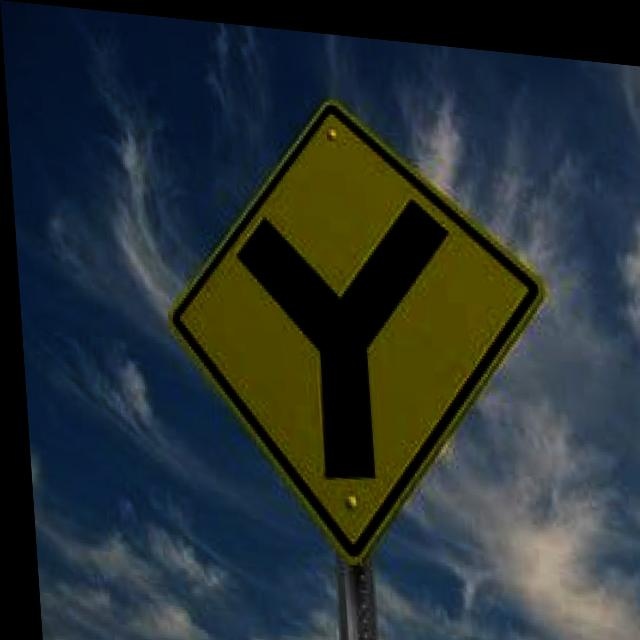Y_INTERSECTION: (130, 48, 576, 588)
